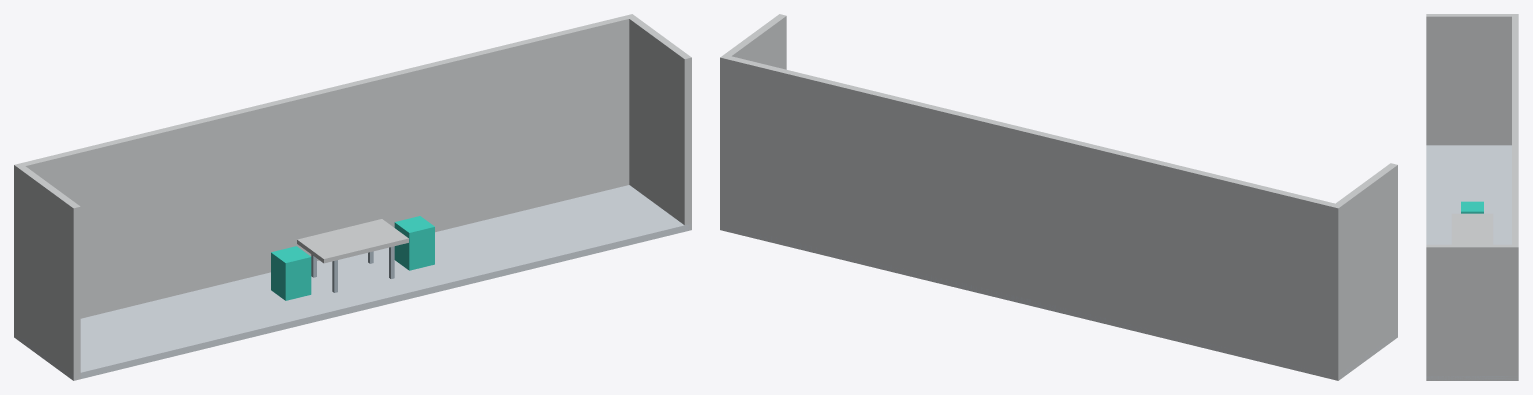
3 views of the same model, side by side, from view 1: azimuth 30°, elevation 25°; view 2: azimuth 150°, elevation 25°; view 3: azimuth 270°, elevation 25° (orthographic). The views are drawn at different scales.
Visible parts, largest first — view 1: Exhibition Booth Concept; view 2: Exhibition Booth Concept; view 3: Exhibition Booth Concept.
Part boxes in pixels (bbox=[...]): Exhibition Booth Concept: bbox=[14, 14, 691, 380]; Exhibition Booth Concept: bbox=[720, 14, 1397, 380]; Exhibition Booth Concept: bbox=[1426, 14, 1518, 380].
Bounding box in the file's own units: 12 × 3.2 × 2.
